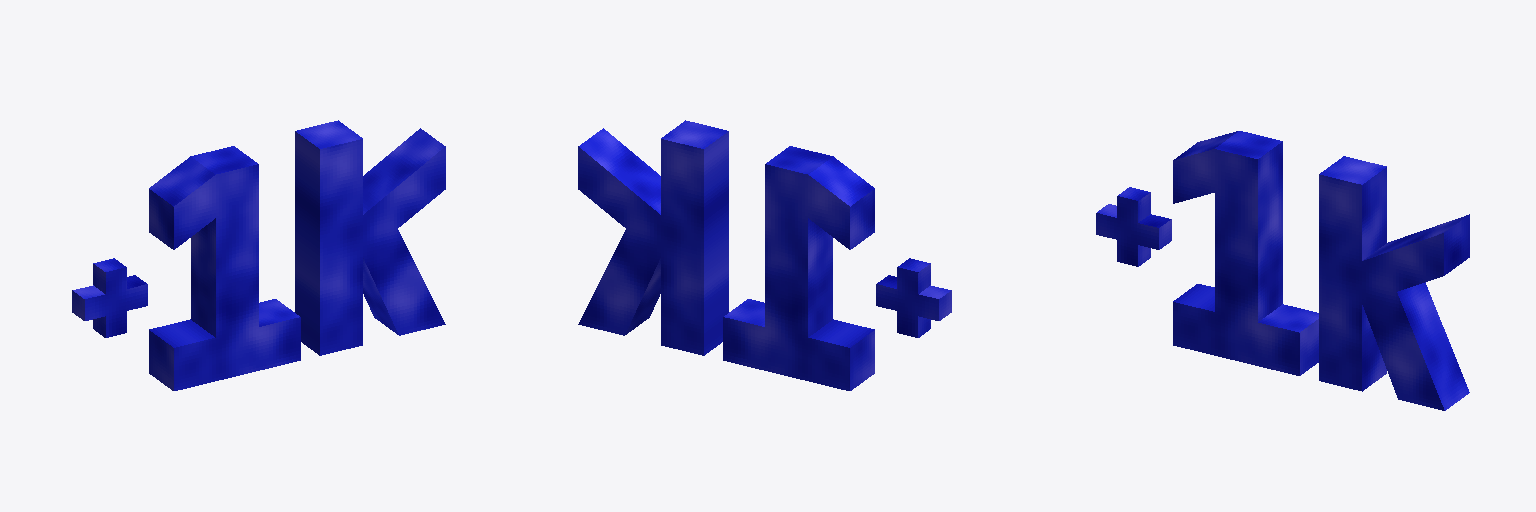
The picture shows the model from 3 angles: view 1: azimuth 30°, elevation 25°; view 2: azimuth 150°, elevation 25°; view 3: azimuth 330°, elevation 25°; orthographic projection.
Parts seen in each view (by area): view 1: PowerUp; view 2: PowerUp; view 3: PowerUp.
Boxes of the visible parts, x1=… form: PowerUp: x1=72, y1=120, x2=445, y2=390; PowerUp: x1=578, y1=120, x2=951, y2=390; PowerUp: x1=1096, y1=131, x2=1469, y2=410.
Size of the model in its own units: 1.7 by 0.9461 by 0.2077.
Materials: 1 (1 with a texture image).